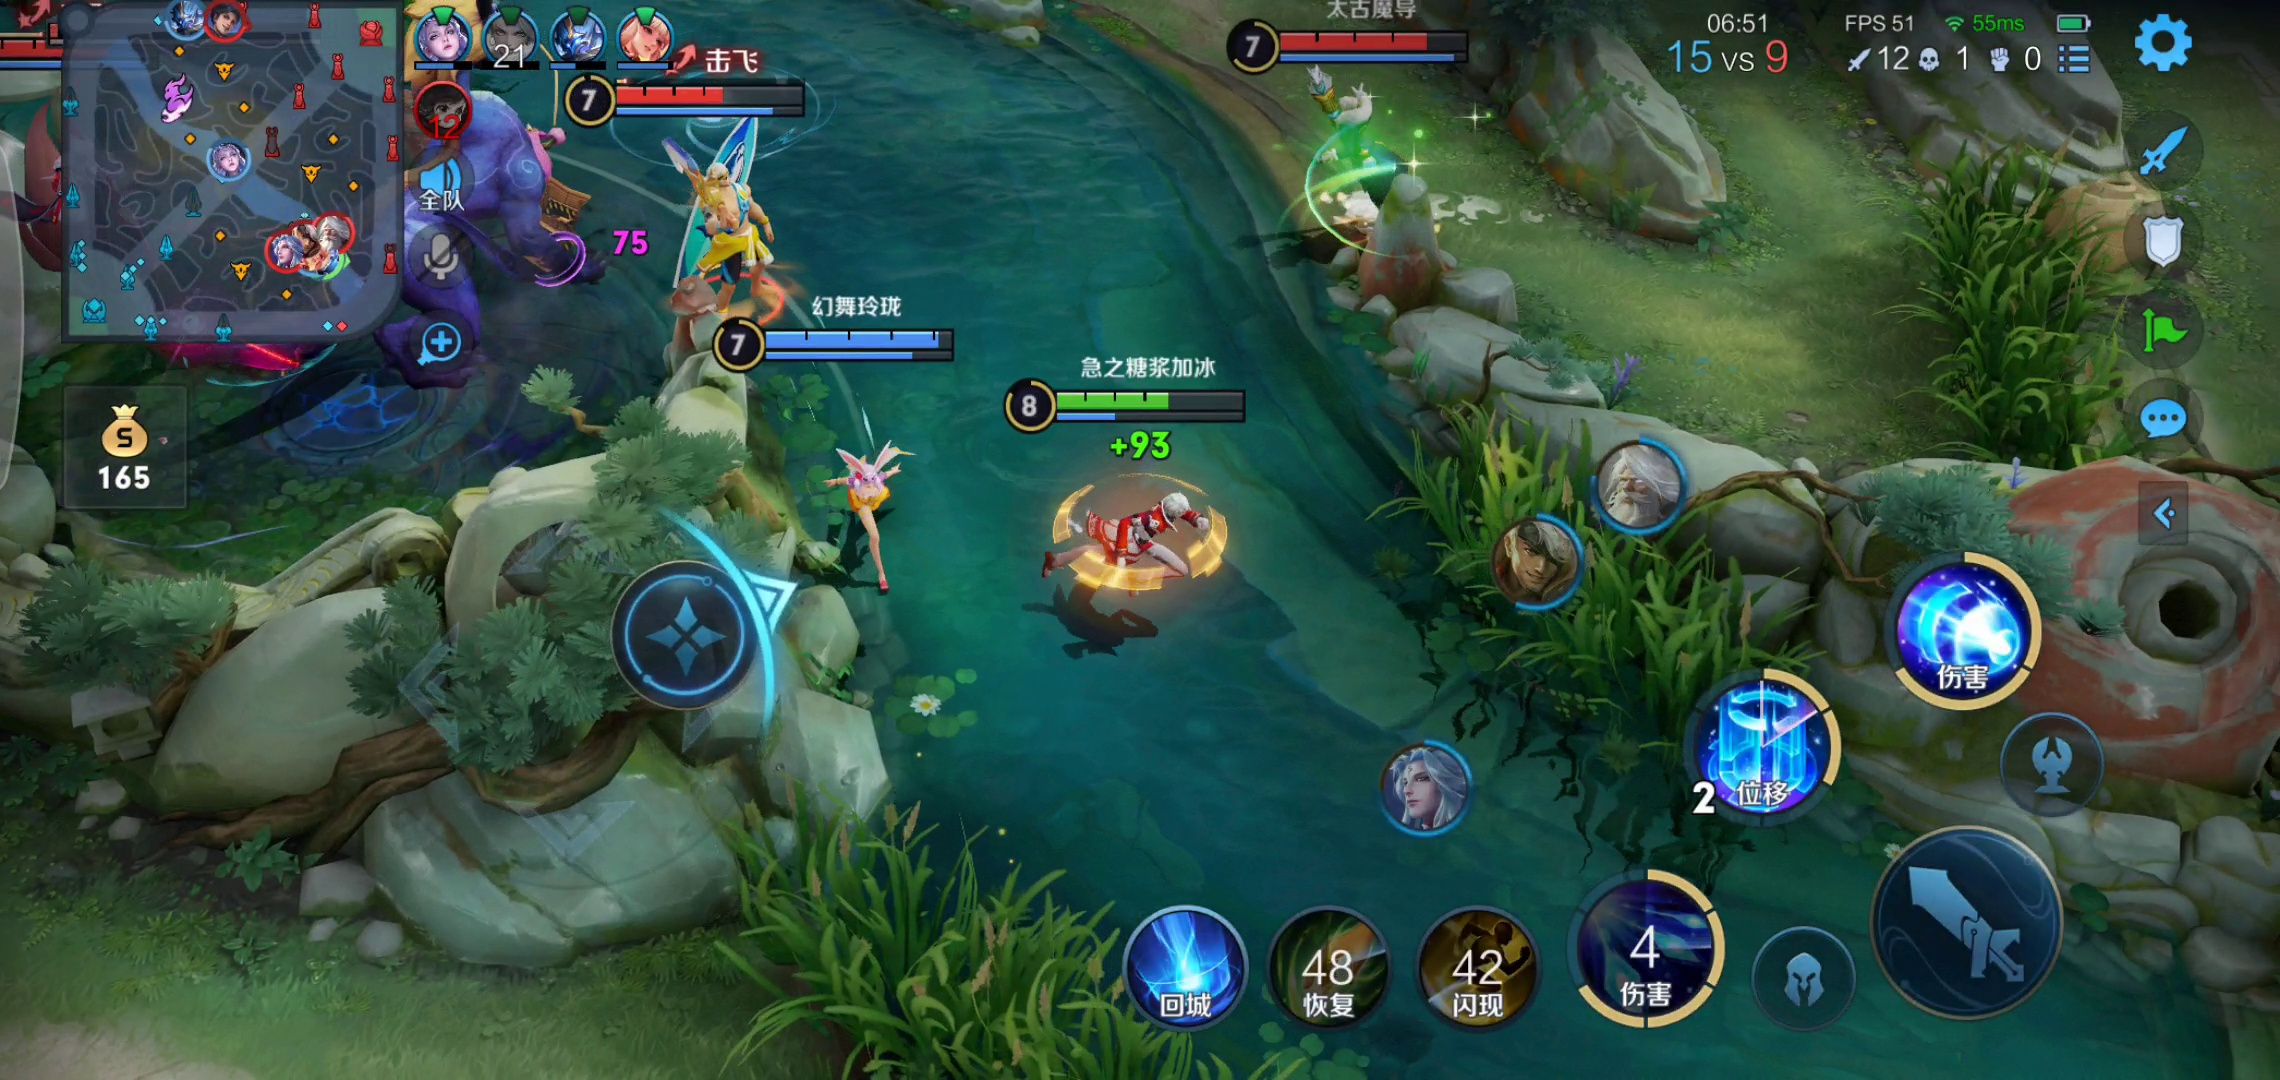grass: (704, 789, 1272, 1080), (1389, 413, 1816, 766), (1899, 147, 2111, 467)
hero: (1045, 477, 1253, 628), (1264, 63, 1432, 231), (803, 435, 931, 602), (667, 161, 798, 311)
